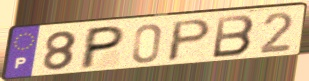0: (131, 22, 164, 64)
2: (256, 11, 295, 56)
8: (40, 29, 78, 72)
B: (210, 14, 257, 60)
P: (76, 24, 128, 72), (164, 17, 214, 64)
